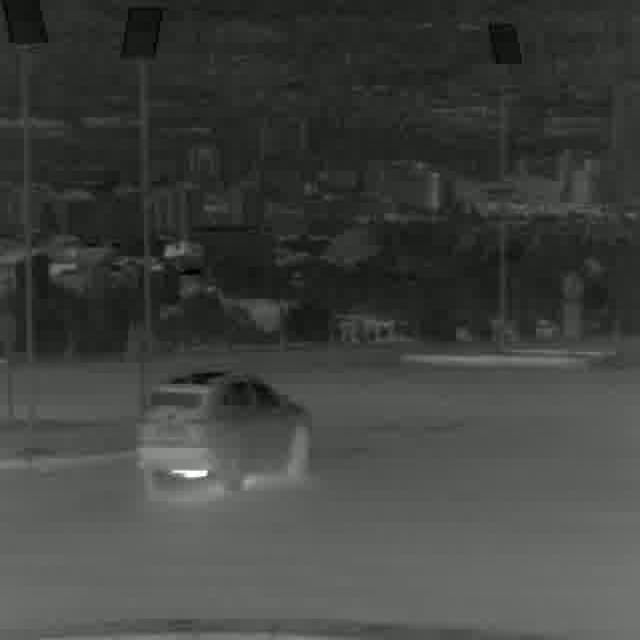Car: (136, 370, 312, 506)
